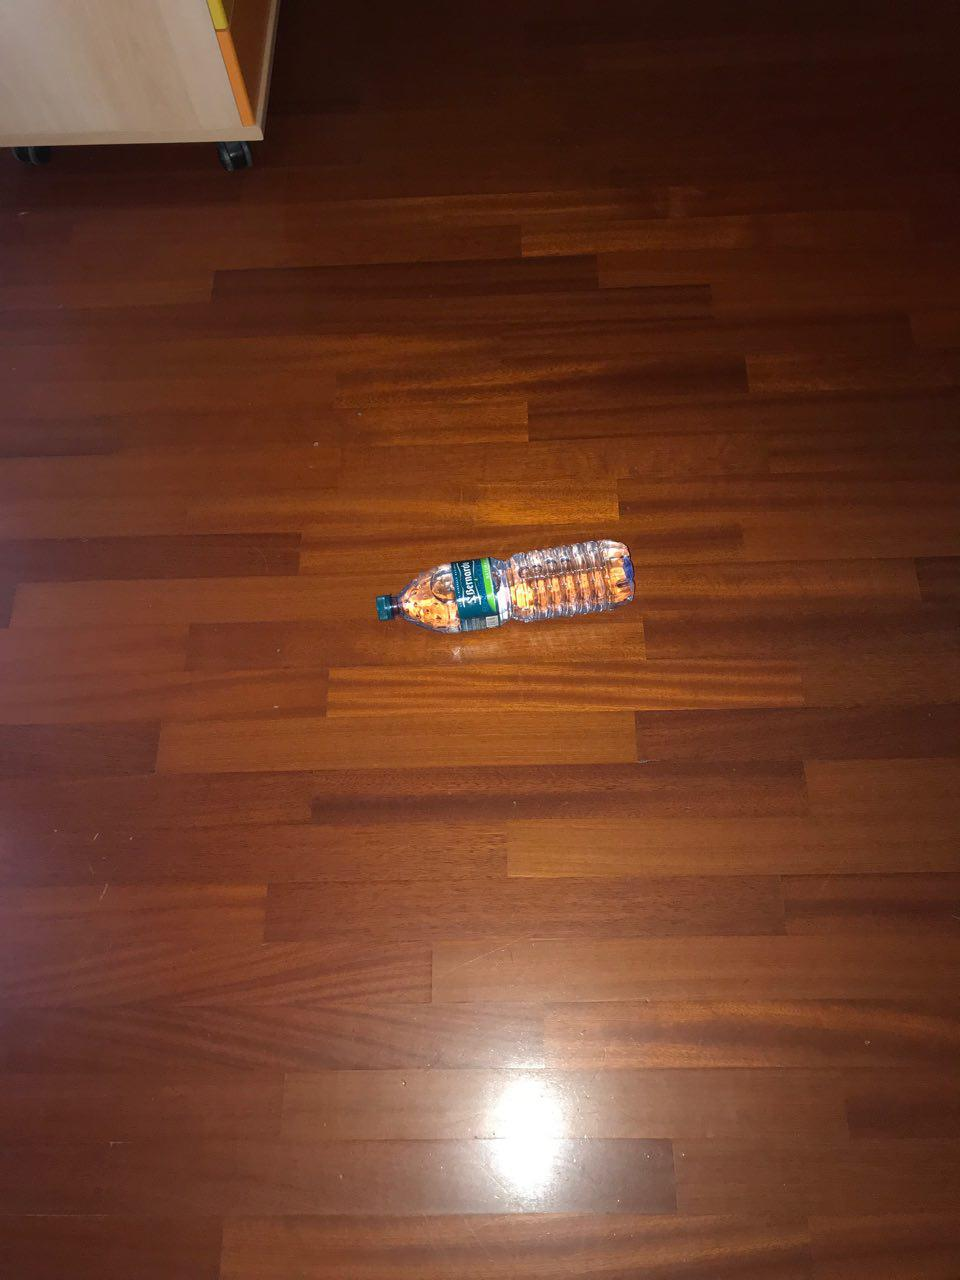san_bernardo: (374, 539, 637, 635)
